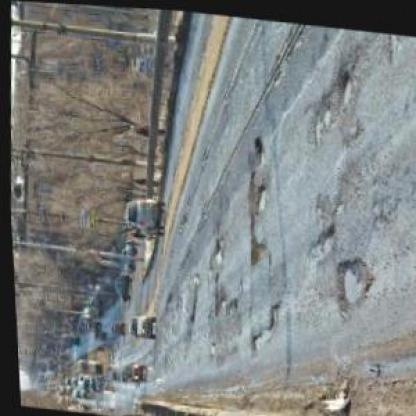pothole: (304, 60, 354, 144), (327, 250, 373, 312), (241, 292, 280, 350), (309, 217, 336, 252), (202, 229, 224, 266), (240, 166, 255, 216), (243, 233, 265, 265), (248, 179, 265, 212), (206, 284, 224, 315), (247, 130, 263, 154), (200, 338, 212, 354), (186, 269, 197, 282)
